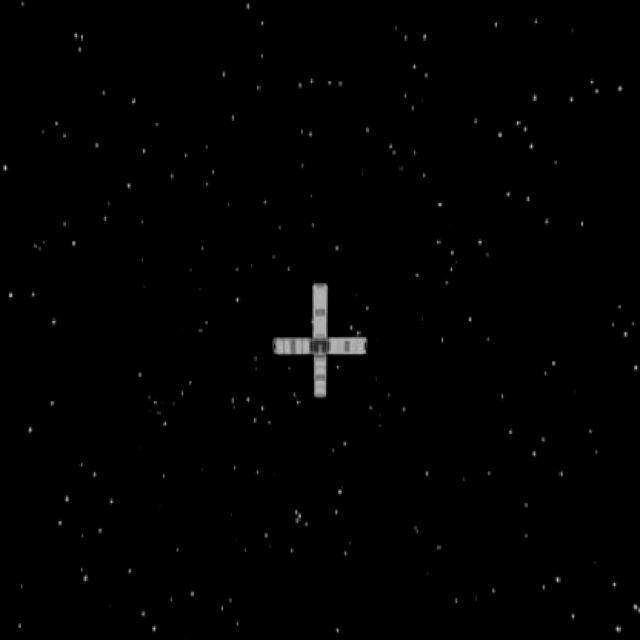medium_debris: (260, 273, 382, 408)
